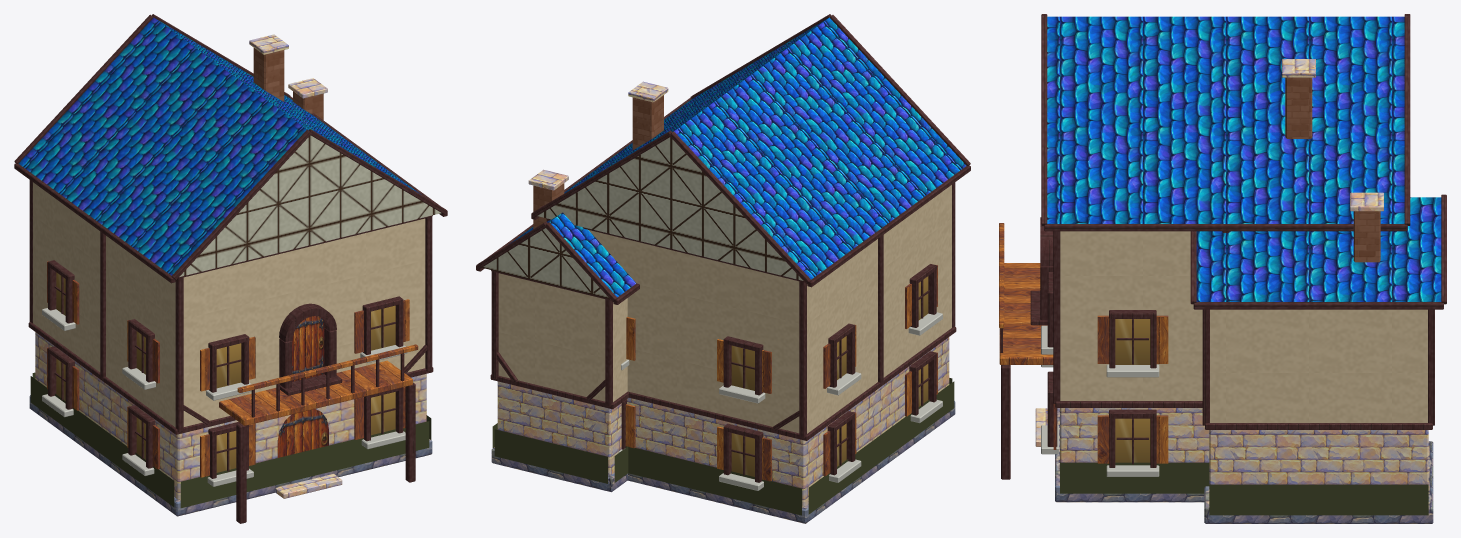
The model's file is MerchantHouse.fbx.
The picture shows the model from 3 angles, left to right: view 1: azimuth 30°, elevation 25°; view 2: azimuth 150°, elevation 25°; view 3: azimuth 270°, elevation 25°; orthographic projection. The views are drawn at different scales.
Visible parts, largest first — view 1: Main roof.002, Upper wall panels.002, Ground floor.002, Weathered wall foot.008, Accessible balcony platform, Weathered wall foot.010, Stone footing.002, Entrance door.001, Heavy oak entrance, Structural sill.002, Structural timber post.008, Gable bargeboard.008 (+23 smaller); view 2: Main roof.002, Upper wall panels.002, Upper wall panels.003, Ground floor.002, Ground floor.003, Main roof.003, Weathered wall foot.011, Weathered wall foot.010, Weathered wall foot.015, Stone footing.002, Structural sill.002, Gable bargeboard.010 (+15 smaller); view 3: Main roof.002, Upper wall panels.003, Upper wall panels.002, Main roof.003, Ground floor.003, Weathered wall foot.013, Ground floor.002, Weathered wall foot.009, Accessible balcony platform, Eaves fascia.005, Stone footing.003, Eaves fascia.007 (+24 smaller).
Part boxes in pixels (x1,y1,x2,y2): Main roof.002: [18, 17, 441, 276]; Upper wall panels.002: [33, 182, 425, 427]; Ground floor.002: [35, 332, 426, 499]; Weathered wall foot.008: [180, 421, 429, 508]; Accessible balcony platform: [219, 360, 412, 425]; Weathered wall foot.010: [30, 376, 174, 506]; Stone footing.002: [29, 395, 432, 516]; Entrance door.001: [277, 409, 328, 457]; Heavy oak entrance: [292, 316, 324, 381]; Structural sill.002: [28, 322, 433, 434]; Structural timber post.008: [175, 277, 183, 432]; Gable bargeboard.008: [171, 129, 310, 280]; Main roof.002: [537, 17, 966, 280]; Upper wall panels.002: [589, 185, 951, 433]; Upper wall panels.003: [498, 273, 627, 401]; Ground floor.002: [627, 337, 949, 507]; Ground floor.003: [497, 381, 621, 475]; Main roof.003: [482, 212, 636, 298]; Weathered wall foot.011: [625, 446, 801, 515]; Weathered wall foot.010: [808, 381, 954, 514]; Weathered wall foot.015: [494, 429, 607, 483]; Stone footing.002: [628, 401, 955, 523]; Structural sill.002: [627, 326, 956, 440]; Gable bargeboard.010: [670, 131, 811, 284]; Main roof.002: [1047, 16, 1404, 223]; Upper wall panels.003: [1210, 309, 1427, 422]; Upper wall panels.002: [1060, 231, 1202, 400]; Main roof.003: [1196, 197, 1441, 301]; Ground floor.003: [1209, 430, 1428, 484]; Weathered wall foot.013: [1209, 484, 1428, 515]; Ground floor.002: [1060, 408, 1209, 462]; Weathered wall foot.009: [1060, 462, 1209, 493]; Accessible balcony platform: [999, 263, 1053, 364]; Eaves fascia.005: [1044, 224, 1407, 231]; Stone footing.003: [1204, 441, 1433, 523]; Eaves fascia.007: [1193, 302, 1443, 309].
Size of the model in its own units: 1015 by 1104 by 1079.
